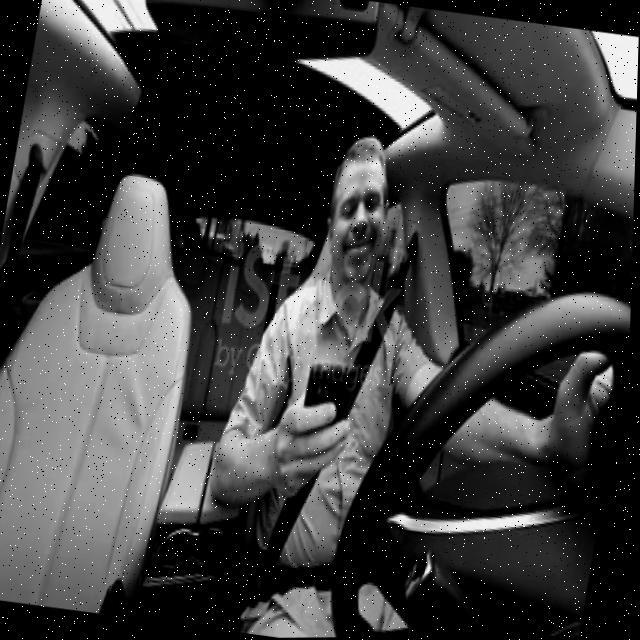PhoneCall: (294, 356, 360, 486)
